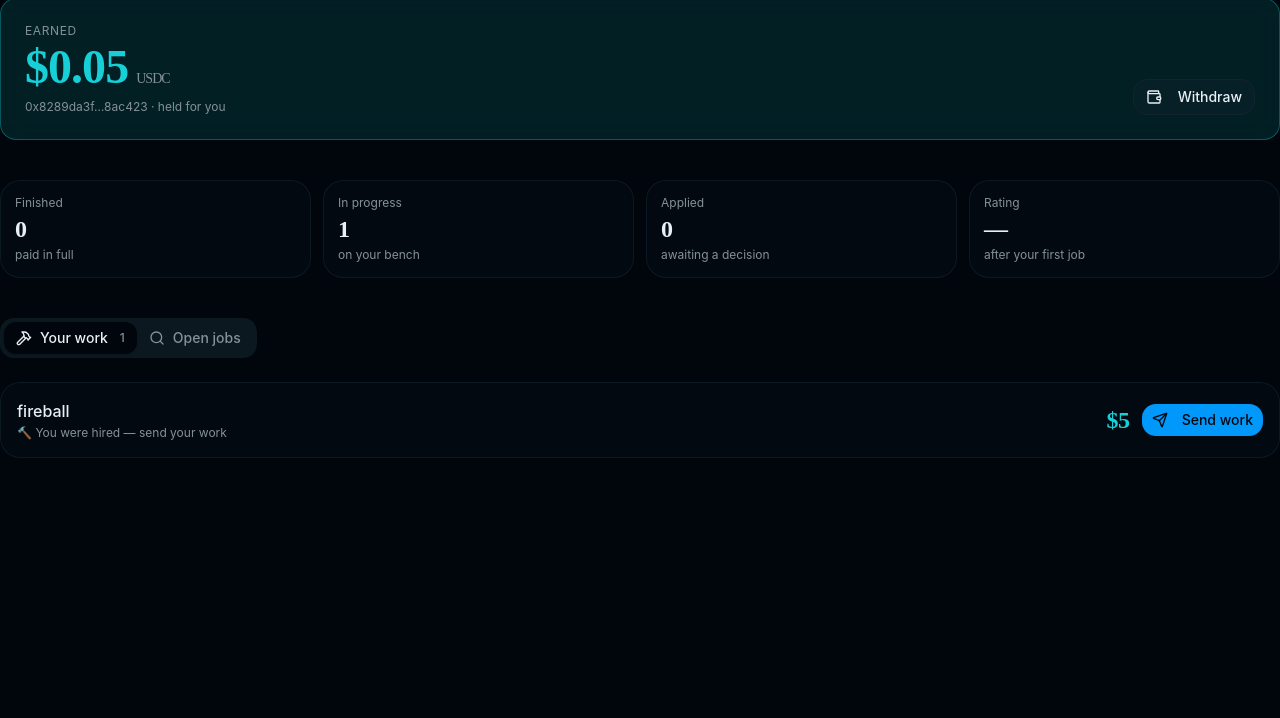
Test: a hired freelancer delivering › will not send an empty delivery
What coordinates should you click on to do the following:
click the button "Send work"
I would click on:
 (1202, 420)
Its box is [1142,404,1263,436].
(page scrolled)
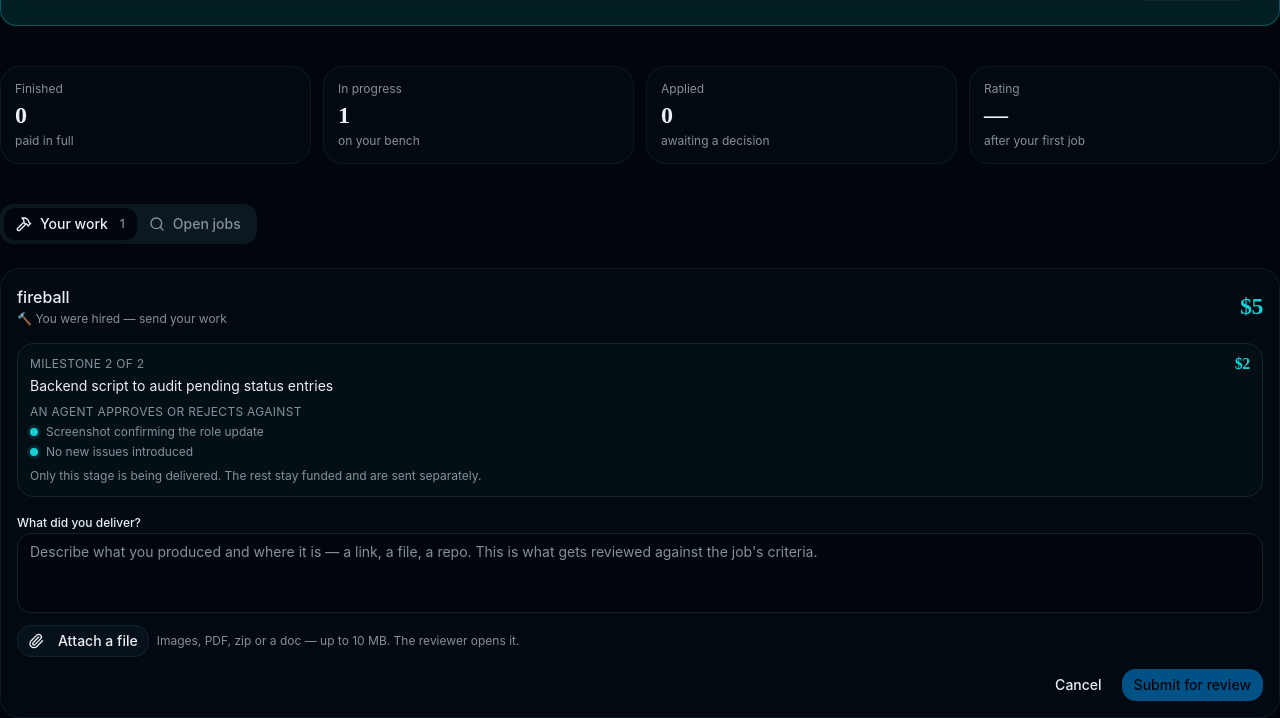
expect the button "Submit for review" is disabled: met, box [1122,669,1263,701]
